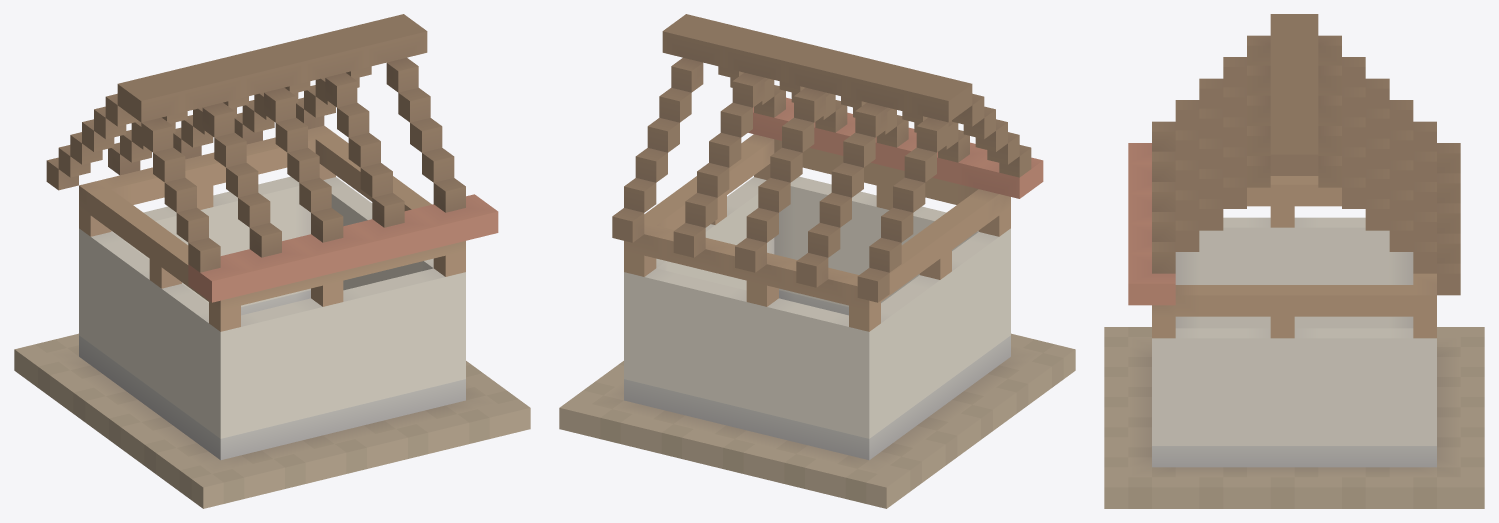
The model's file is life_stage.v2.glb.
3 views of the same model, side by side, from view 1: azimuth 30°, elevation 25°; view 2: azimuth 150°, elevation 25°; view 3: azimuth 270°, elevation 25° (orthographic).
Parts seen in each view (by area): view 1: life_stage; view 2: life_stage; view 3: life_stage.
Part boxes in pixels (x1,y1,x2,y2): life_stage: [14, 14, 530, 508]; life_stage: [559, 14, 1075, 508]; life_stage: [1104, 14, 1484, 508].
Size of the model in its own units: 2 by 2 by 2.
